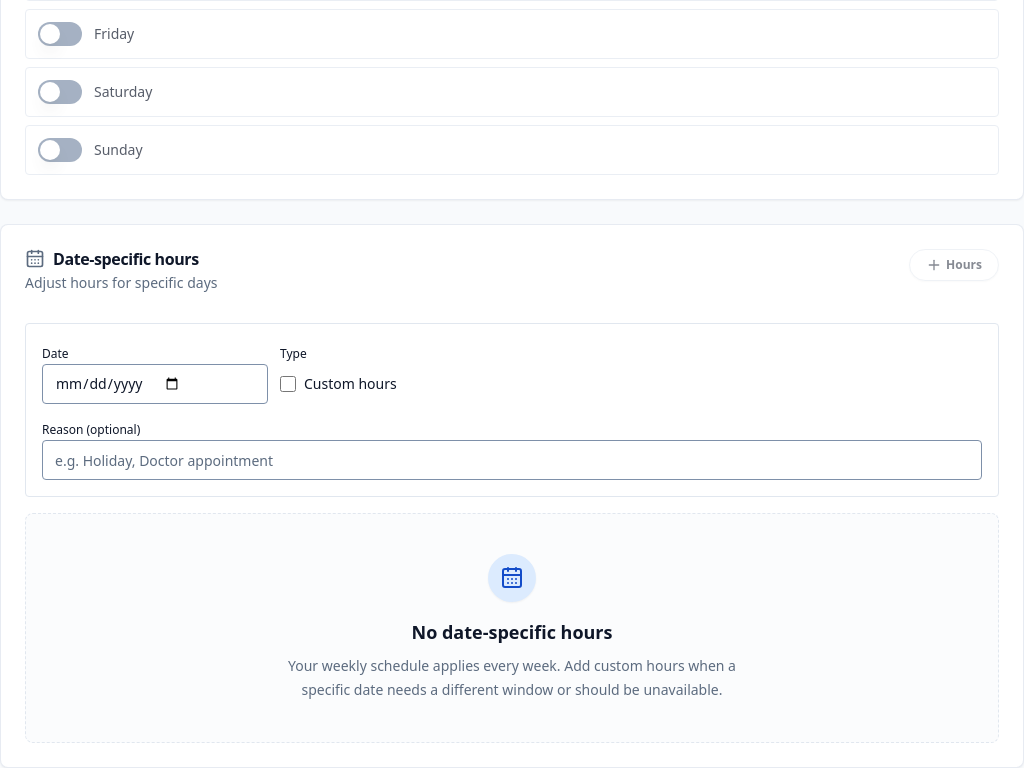
Test: AvailabilityClient › disables custom date-specific hours until the time range is valid
(page scrolled)
In the date field labelled "Date": (155, 384) [42, 364, 268, 404], type "2099-05-10"
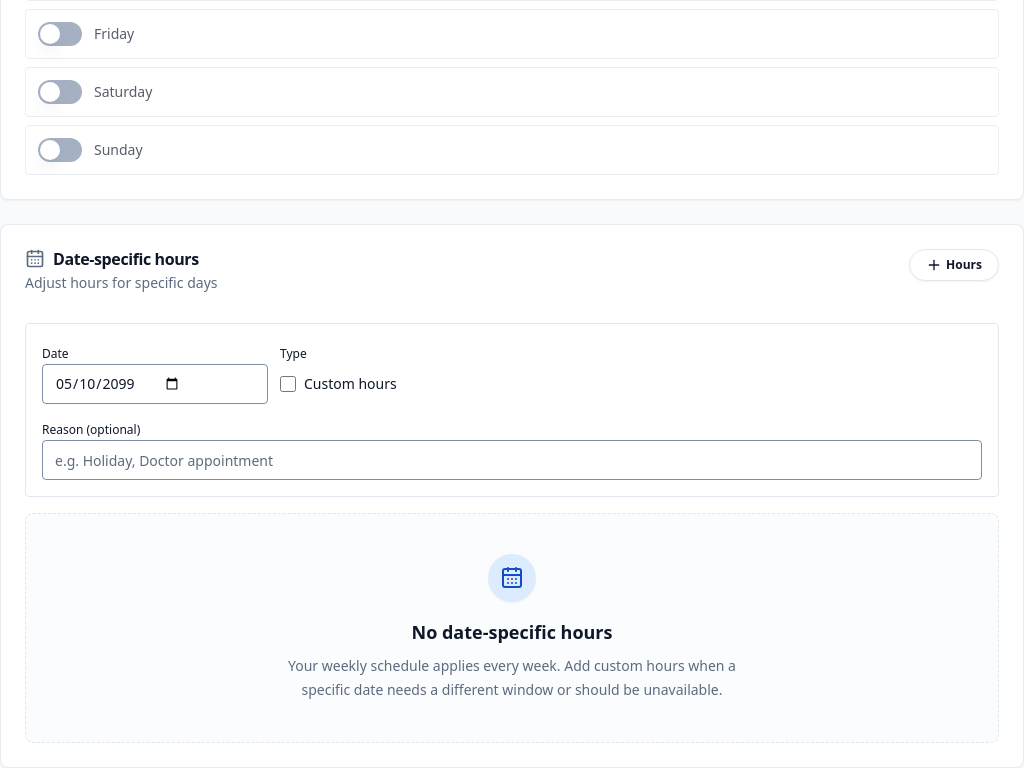
Click the checkbox labelled "Custom hours": click(288, 384) [280, 376, 296, 392]
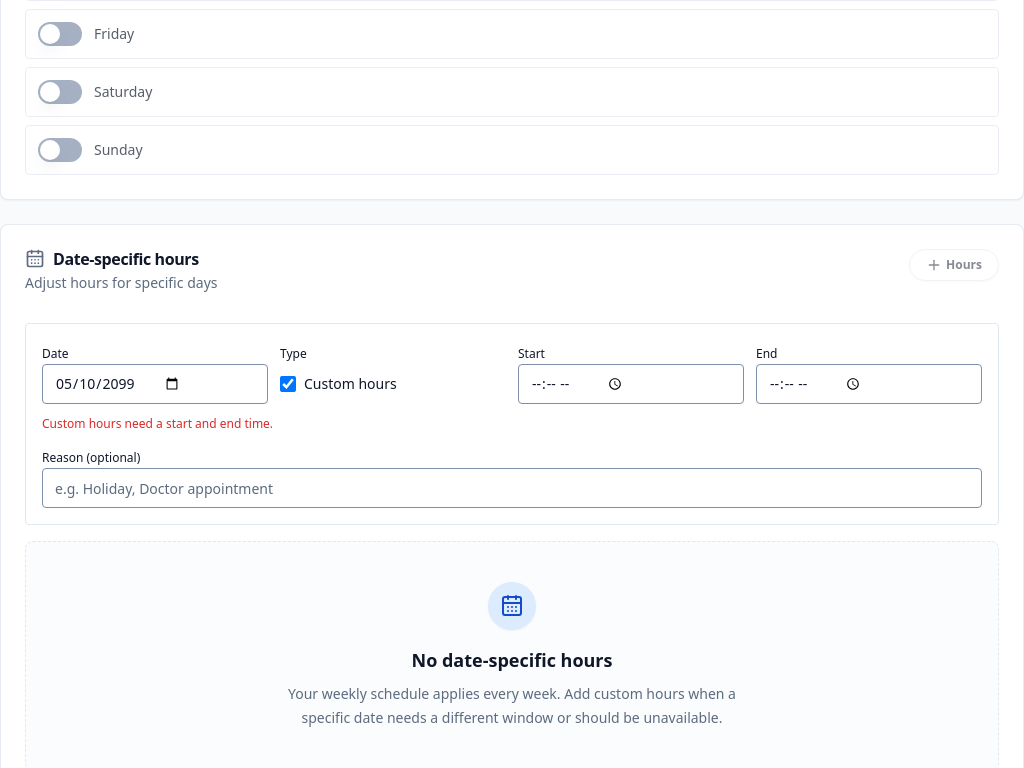
Now the button with aria-label "Add override" is disabled, box [909, 249, 999, 281]
Now the message reads "Custom hours need a start and end time.", box [42, 415, 273, 432]
In the time field labelled "Start": (631, 384) [518, 364, 744, 404], type "14:00"
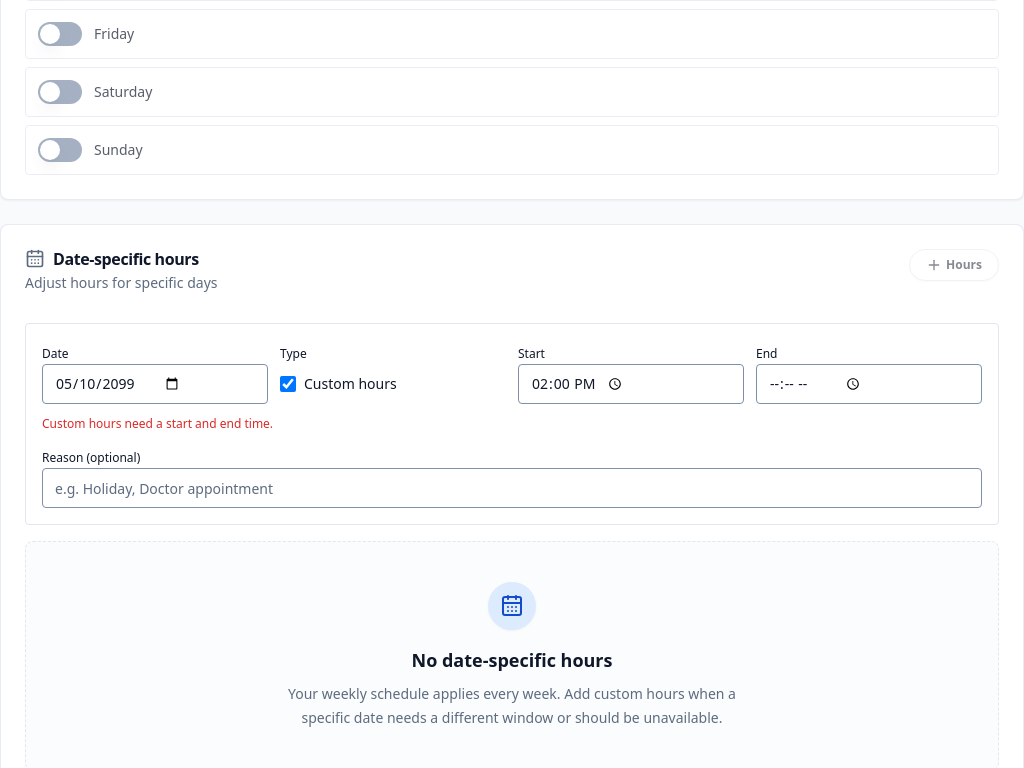
In the time field labelled "End": (869, 384) [756, 364, 982, 404], type "13:00"
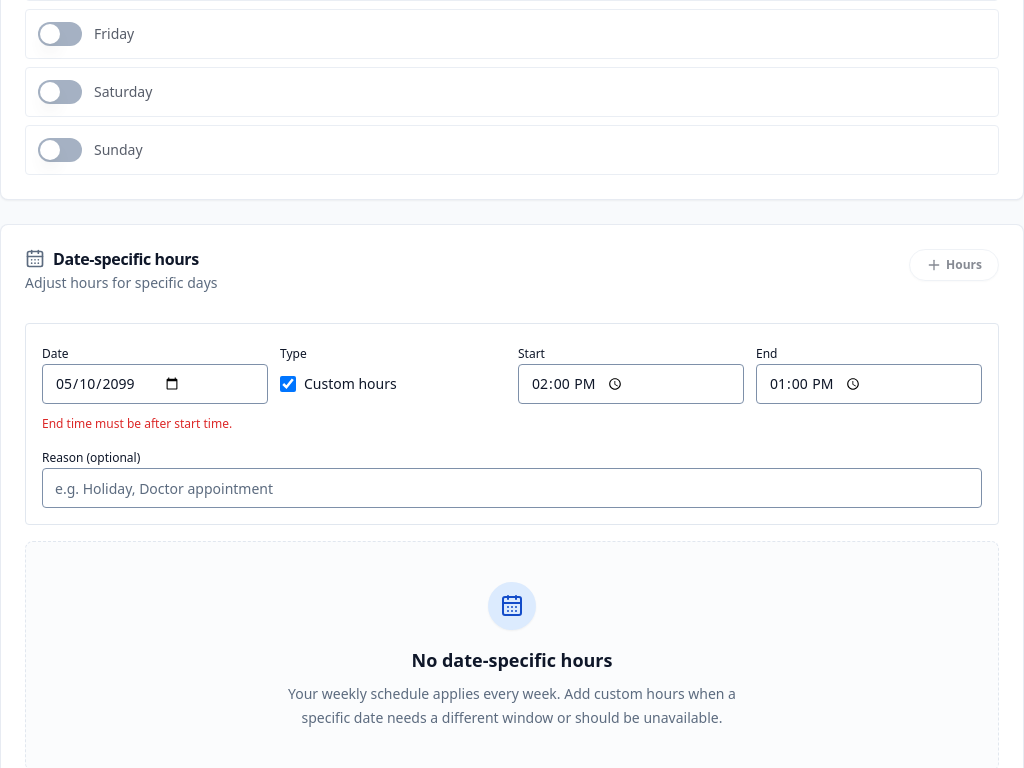
Now the button with aria-label "Add override" is disabled, box [909, 249, 999, 281]
Now the message reads "End time must be after start time.", box [42, 415, 232, 432]
Replace the text in the time field labelled "End" with "15:00": (869, 384) [756, 364, 982, 404]
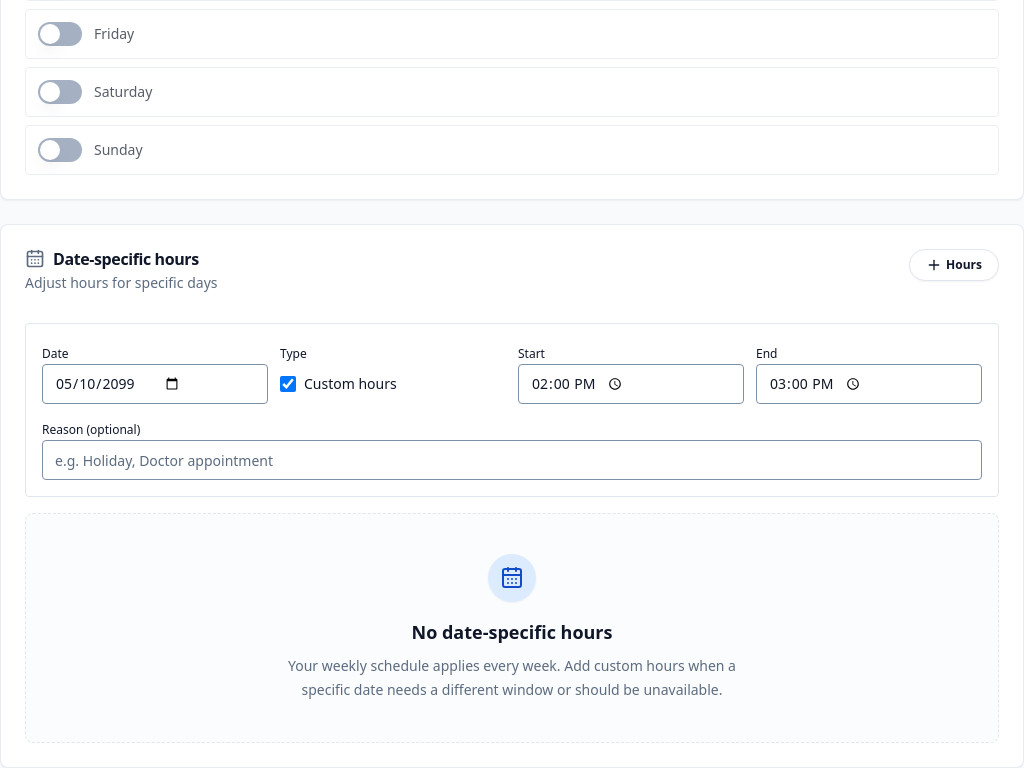
Now the message "End time must be after start time." is gone
Now the button with aria-label "Add override" is enabled, box [909, 249, 999, 281]
